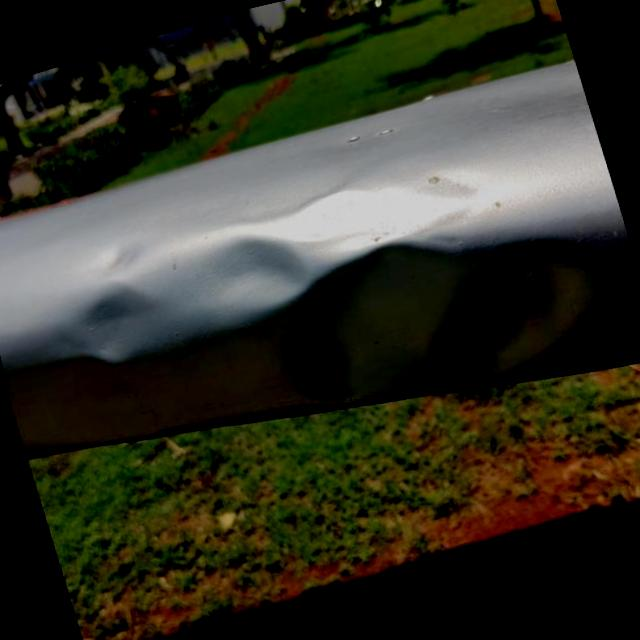dent: (177, 60, 640, 449), (22, 215, 203, 378)
